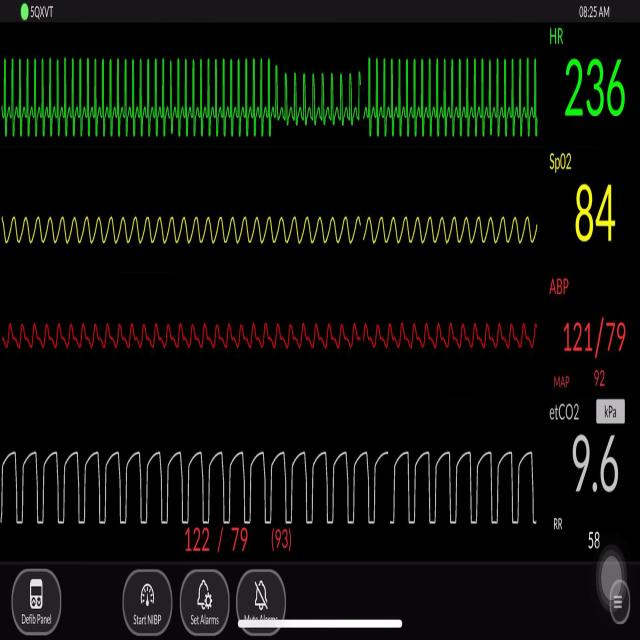danger: (12, 36, 266, 155), (365, 32, 548, 155), (276, 50, 366, 137)
